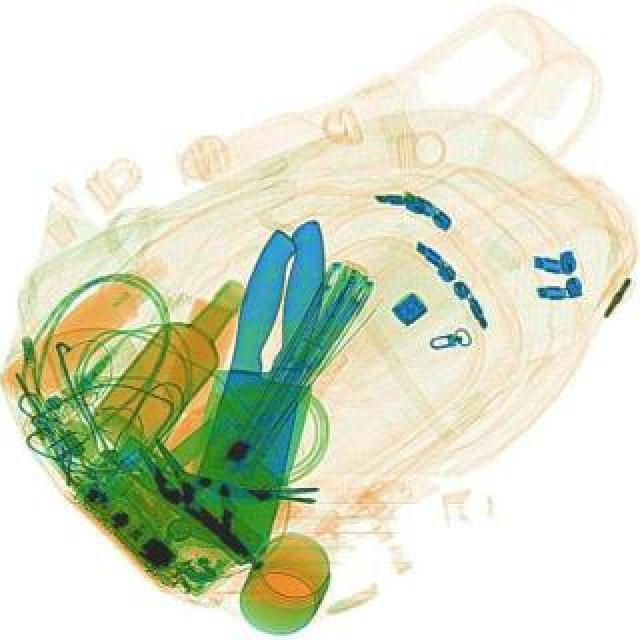knife: (178, 226, 346, 558), (176, 208, 332, 564)
